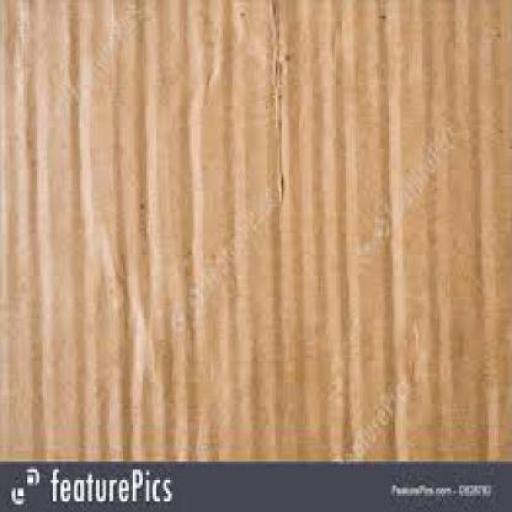cardboard: (0, 0, 511, 460)
